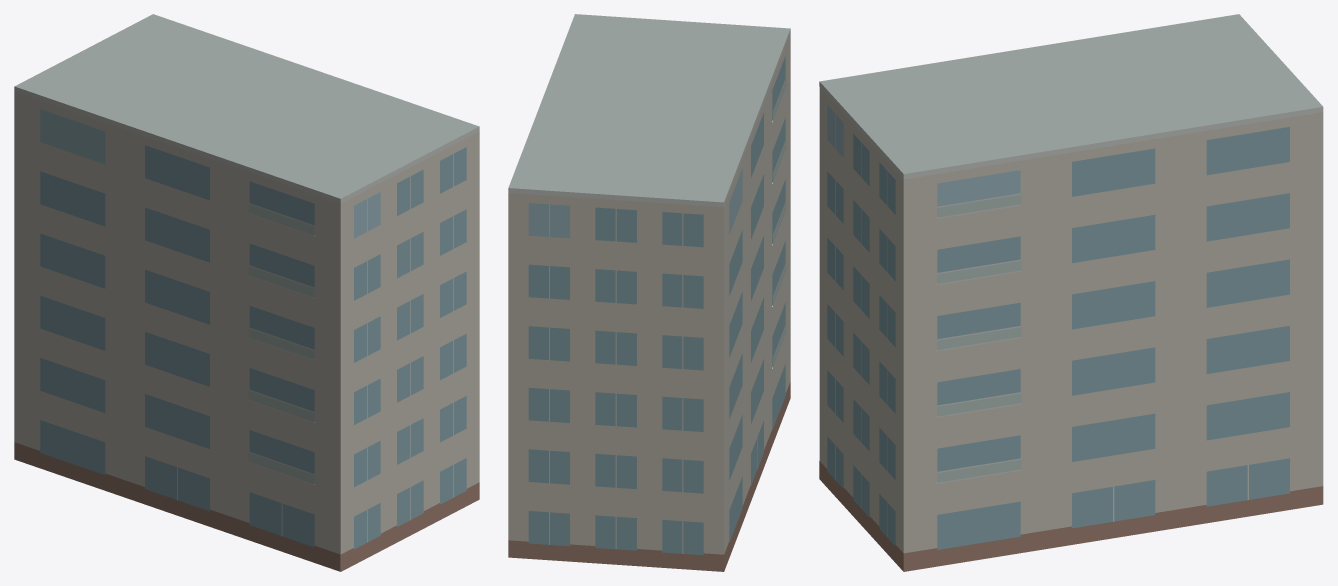
The model's file is survey-upis-32841625.glb.
The picture shows the model from 3 angles, left to right: view 1: azimuth 30°, elevation 25°; view 2: azimuth 150°, elevation 25°; view 3: azimuth 270°, elevation 25°; orthographic projection. The views are drawn at different scales.
Parts seen in each view (by area): view 1: survey-upis-32841625.tmp; view 2: survey-upis-32841625.tmp; view 3: survey-upis-32841625.tmp.
Part boxes in pixels (bbox=[...]): survey-upis-32841625.tmp: bbox=[14, 14, 479, 571]; survey-upis-32841625.tmp: bbox=[508, 14, 790, 571]; survey-upis-32841625.tmp: bbox=[819, 14, 1323, 571].
Size of the model in its own units: 15.9 by 18.4 by 21.14.
